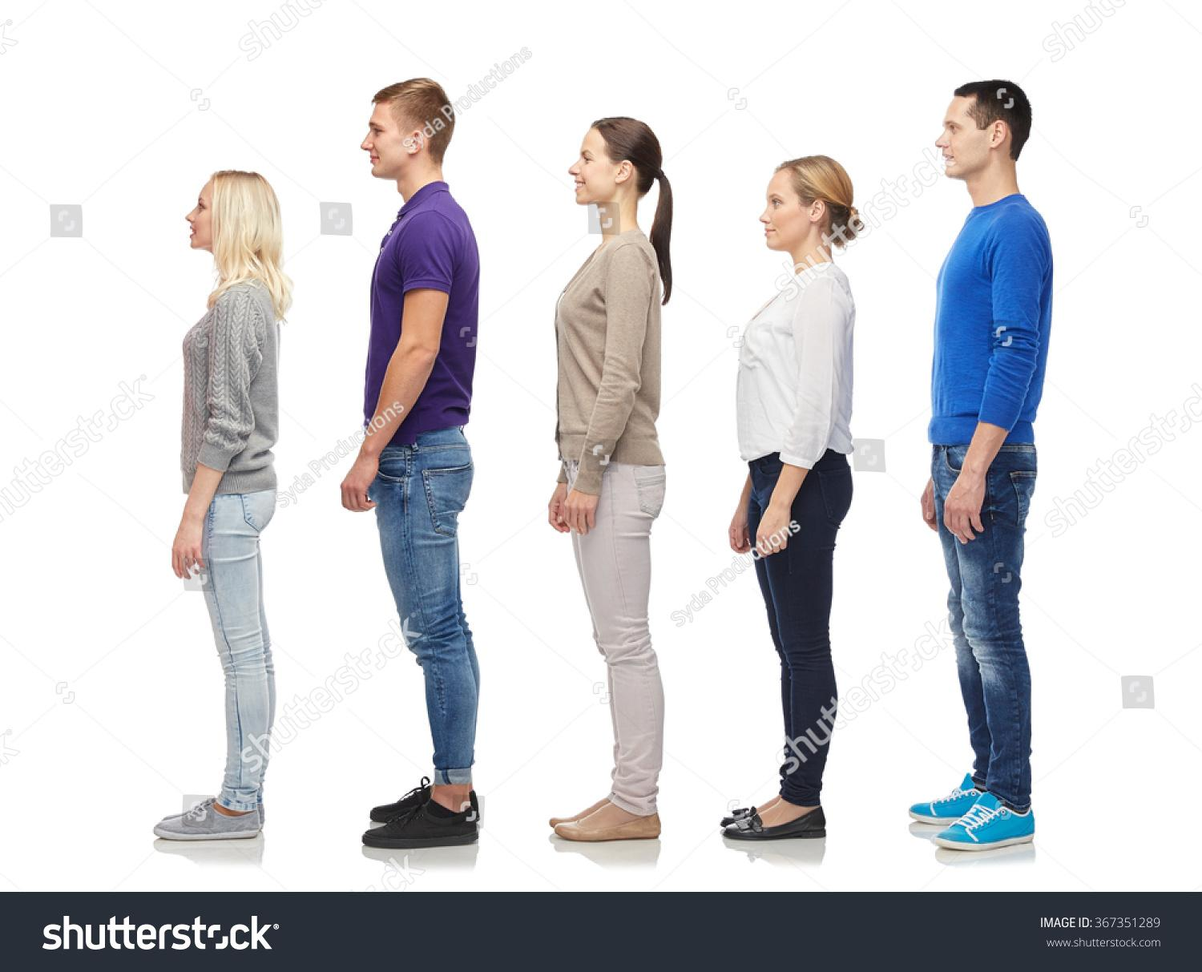long sleeve shirt: (729, 261, 860, 471)
short sleeve shirt: (360, 179, 483, 440)
sweater: (923, 194, 1057, 452), (551, 229, 666, 469), (179, 281, 283, 498)
trousers: (737, 442, 857, 811), (361, 425, 481, 788), (556, 454, 671, 818), (930, 441, 1040, 814), (193, 481, 278, 818)
